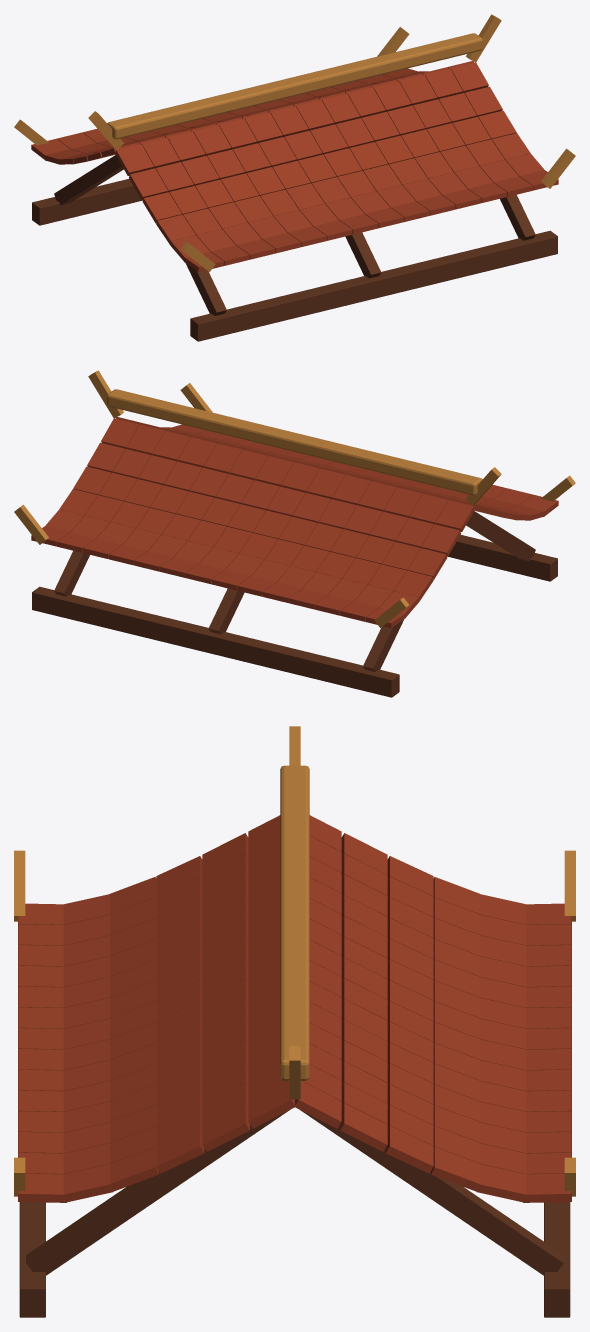
File: source-edit.glb
The picture shows the model from 3 angles, top to bottom: view 1: azimuth 30°, elevation 25°; view 2: azimuth 150°, elevation 25°; view 3: azimuth 270°, elevation 25°; orthographic projection. The views are drawn at different scales.
Visible parts, largest first — view 1: ROOF_EaveBeam, ROOF_Ridge, ROOF_EaveBeam.001, ROOF_Rafter.001, ROOF_Rafter, ROOF_Rafter.002, ROOF_Rafter.004, ROOF_Tile_-1_0_0, ROOF_Tile_-1_1_0, ROOF_Tile_-1_2_0, ROOF_Tile_-1_0_6, ROOF_Tile_-1_0_1 (+81 smaller); view 2: ROOF_EaveBeam.001, ROOF_Ridge, ROOF_EaveBeam, ROOF_Rafter, ROOF_Rafter.001, ROOF_Rafter.003, ROOF_Rafter.005, ROOF_Tile_1_0_0, ROOF_Tile_1_1_0, ROOF_Tile_1_2_0, ROOF_Tile_1_0_6, ROOF_Tile_1_0_1 (+81 smaller); view 3: ROOF_Ridge, ROOF_Rafter.004, ROOF_Rafter.005, ROOF_EaveBeam, ROOF_EaveBeam.001, ROOF_Tile_-1_2_13, ROOF_Tile_1_2_13, ROOF_Tile_-1_1_13, ROOF_Tile_1_1_13, ROOF_Tile_-1_3_13, ROOF_Tile_1_3_13, ROOF_Tile_-1_4_13 (+137 smaller).
Part boxes in pixels (bbox=[...]): ROOF_EaveBeam: bbox=[190, 230, 557, 341]; ROOF_Ridge: bbox=[107, 33, 482, 139]; ROOF_EaveBeam.001: bbox=[32, 179, 142, 225]; ROOF_Rafter.001: bbox=[54, 155, 123, 205]; ROOF_Rafter: bbox=[143, 146, 226, 315]; ROOF_Rafter.002: bbox=[297, 108, 381, 278]; ROOF_Rafter.004: bbox=[451, 70, 535, 240]; ROOF_Tile_-1_0_0: bbox=[115, 144, 154, 175]; ROOF_Tile_-1_1_0: bbox=[129, 168, 167, 199]; ROOF_Tile_-1_2_0: bbox=[142, 192, 181, 223]; ROOF_Tile_-1_0_6: bbox=[270, 106, 308, 136]; ROOF_Tile_-1_0_1: bbox=[141, 137, 179, 168]; ROOF_EaveBeam.001: bbox=[32, 586, 399, 697]; ROOF_Ridge: bbox=[107, 389, 482, 495]; ROOF_EaveBeam: bbox=[447, 535, 557, 581]; ROOF_Rafter: bbox=[466, 511, 535, 561]; ROOF_Rafter.001: bbox=[363, 502, 446, 671]; ROOF_Rafter.003: bbox=[208, 464, 292, 634]; ROOF_Rafter.005: bbox=[54, 426, 138, 596]; ROOF_Tile_1_0_0: bbox=[435, 500, 474, 531]; ROOF_Tile_1_1_0: bbox=[422, 524, 460, 555]; ROOF_Tile_1_2_0: bbox=[408, 548, 447, 579]; ROOF_Tile_1_0_6: bbox=[281, 462, 319, 492]; ROOF_Tile_1_0_1: bbox=[410, 493, 448, 524]; ROOF_Ridge: bbox=[280, 765, 309, 1080]; ROOF_Rafter.004: bbox=[26, 1110, 289, 1275]; ROOF_Rafter.005: bbox=[300, 1110, 563, 1275]; ROOF_EaveBeam: bbox=[19, 1202, 45, 1317]; ROOF_EaveBeam.001: bbox=[544, 1202, 570, 1317]; ROOF_Tile_-1_2_13: bbox=[156, 1126, 204, 1173]; ROOF_Tile_1_2_13: bbox=[385, 1126, 433, 1173]; ROOF_Tile_-1_1_13: bbox=[202, 1103, 249, 1151]; ROOF_Tile_1_1_13: bbox=[340, 1103, 387, 1151]; ROOF_Tile_-1_3_13: bbox=[110, 1147, 158, 1191]; ROOF_Tile_1_3_13: bbox=[431, 1147, 479, 1191]; ROOF_Tile_-1_4_13: bbox=[63, 1164, 113, 1202].
Size of the model in its own units: 4.78 by 1.93 by 3.43.
